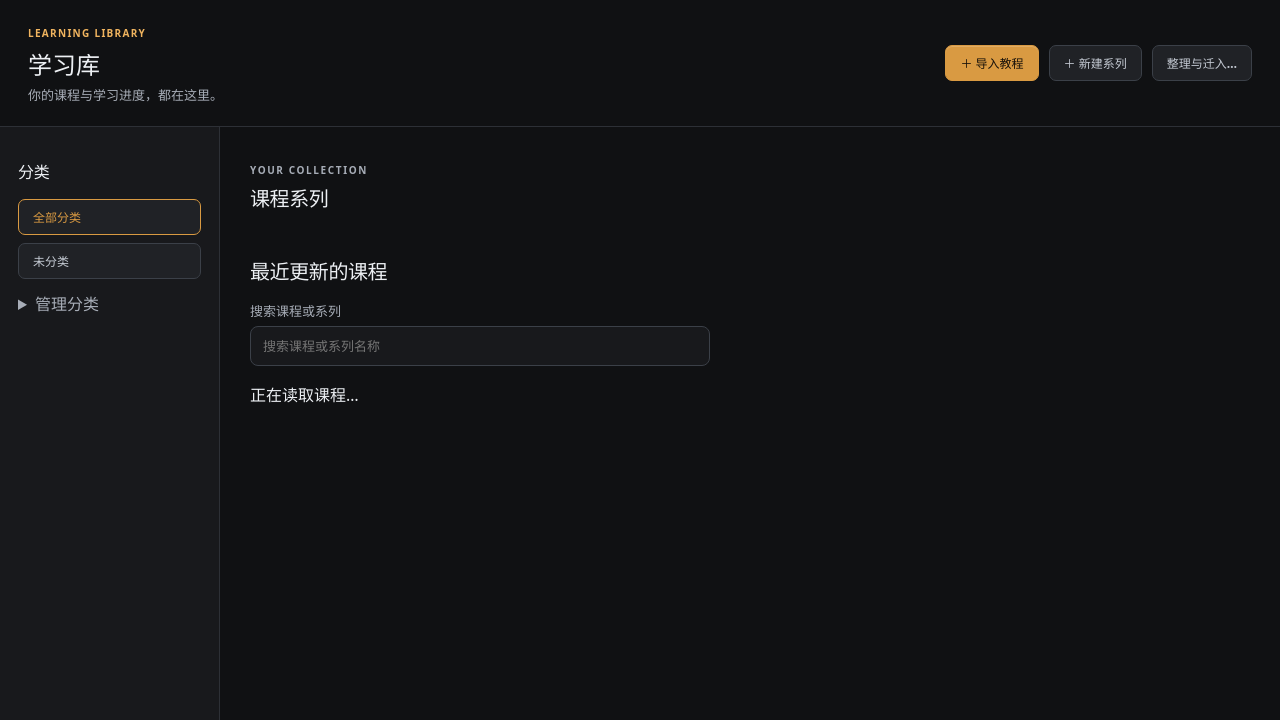
Test: does not show a stale search result after the query changes
Type "a" into the search field named "搜索学习课程" at coordinates (480, 346), box [250,326,710,366]
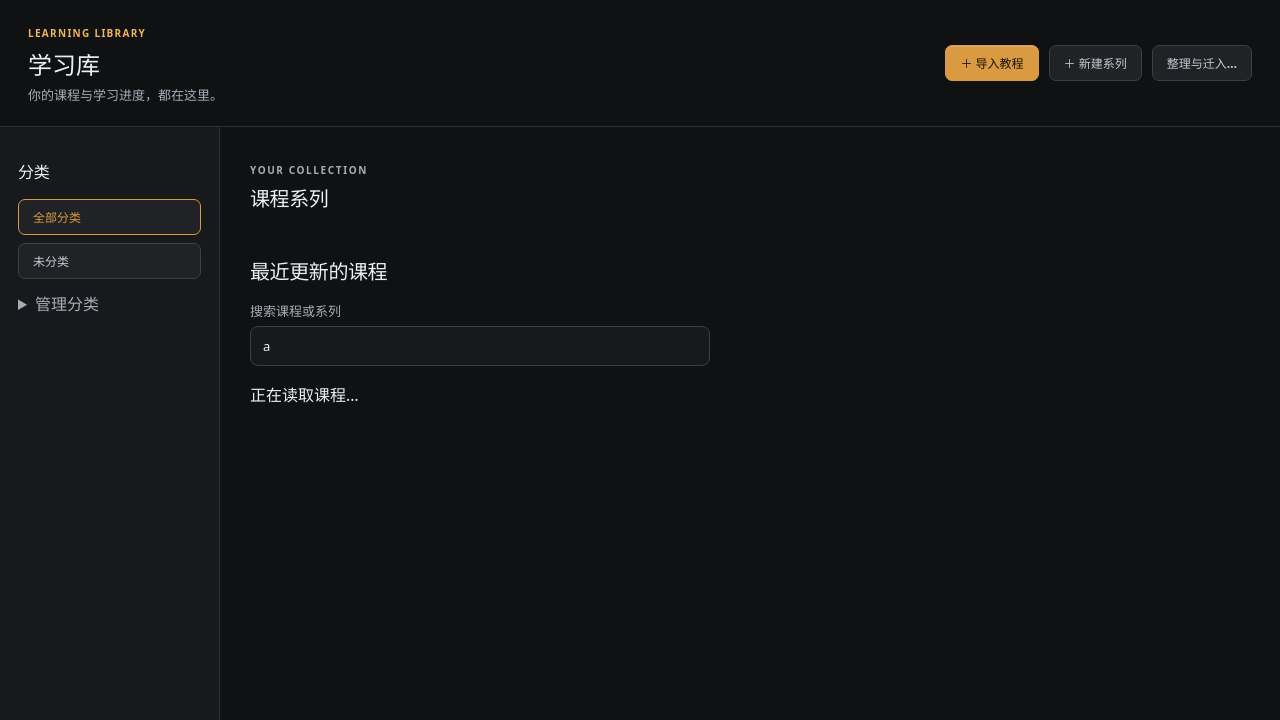
Replace the text in the search field named "搜索学习课程" with "ab" at coordinates (480, 346), box [250,326,710,366]
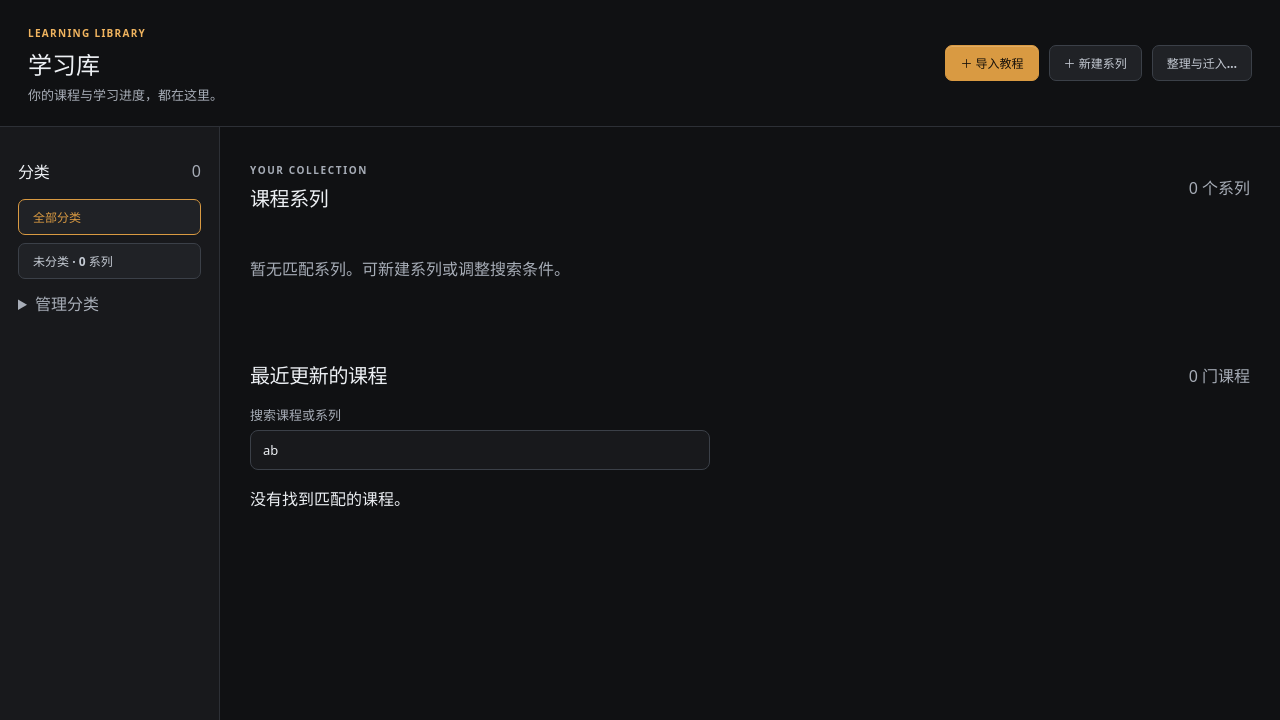
Expected: the text "没有找到匹配的课程。" is shown, [250,488,410,510]
